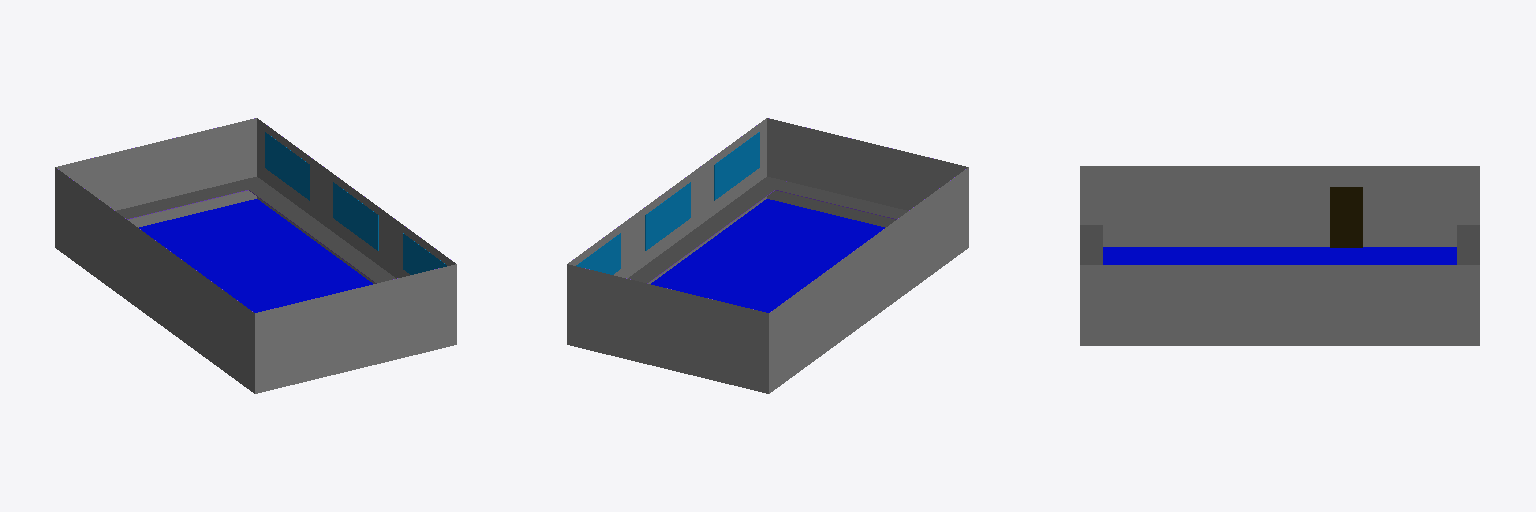
The model's file is room.obj.
3 renders of one model, left to right at view 1: azimuth 30°, elevation 25°; view 2: azimuth 150°, elevation 25°; view 3: azimuth 270°, elevation 25°, orthographic.
Visible parts, largest first — view 1: room; view 2: room; view 3: room.
Part boxes in pixels (left/top/right/bottom): room: left=55, top=118, right=456, bottom=393; room: left=567, top=118, right=968, bottom=393; room: left=1080, top=166, right=1479, bottom=345.
Bounding box in the file's own units: 700 × 268 × 1200.